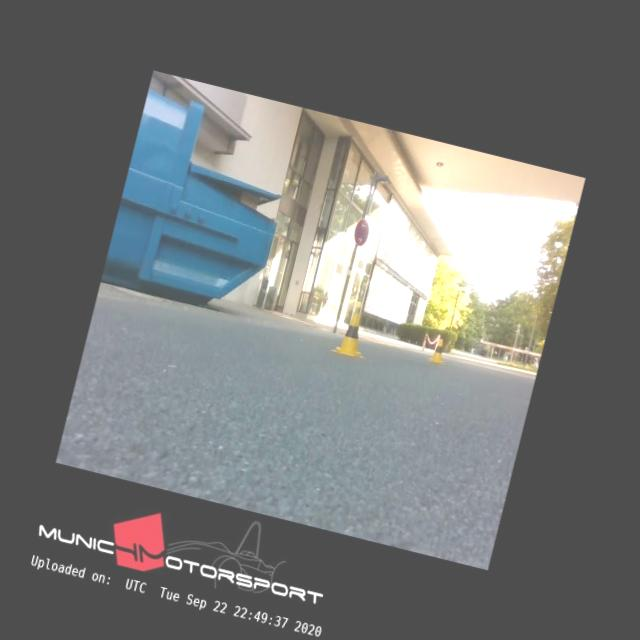yellow_cone: (331, 308, 373, 359), (428, 338, 449, 364)
